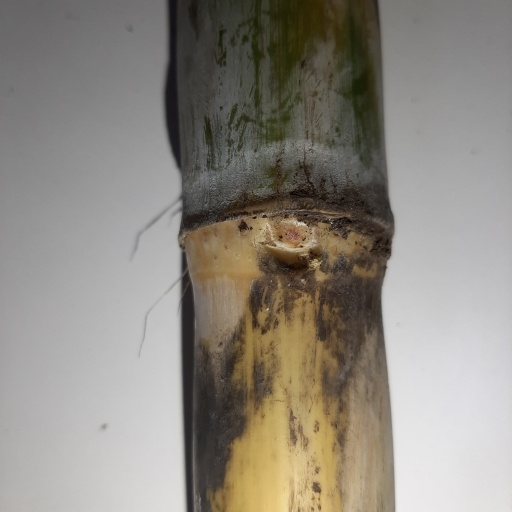Damage_Bud: (268, 218, 315, 264)
